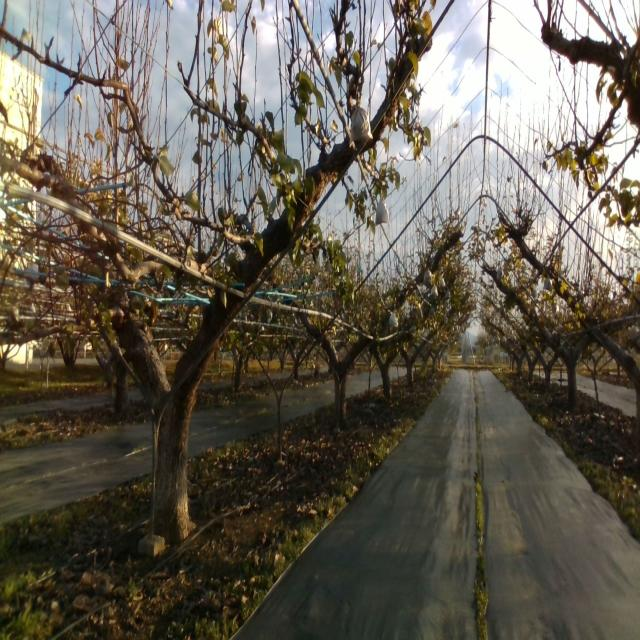pearbags: (349, 107, 373, 149), (375, 196, 390, 227), (620, 188, 636, 217), (388, 310, 398, 329), (423, 267, 433, 286)
